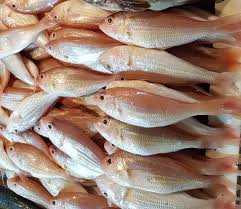Ikan Kerisi: (88, 116, 226, 156), (94, 152, 222, 192), (92, 84, 219, 124), (100, 10, 232, 48), (38, 114, 107, 168), (32, 67, 121, 98), (42, 38, 128, 67), (7, 141, 67, 178)
